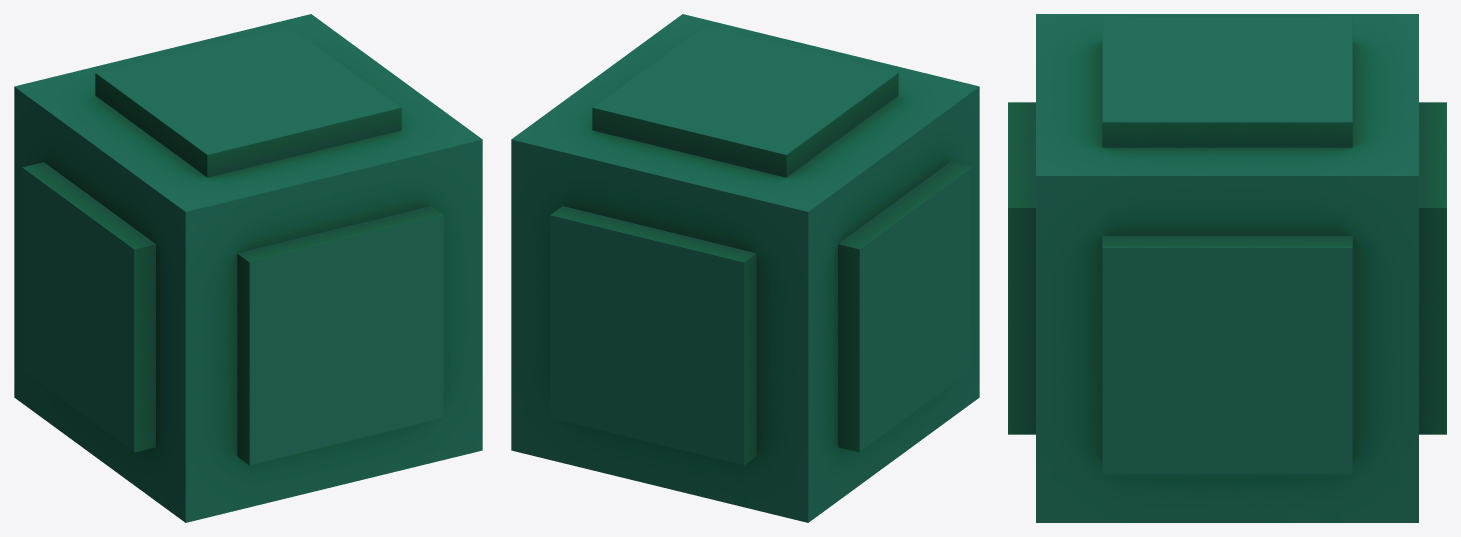
3 views of the same model, side by side, from view 1: azimuth 30°, elevation 25°; view 2: azimuth 150°, elevation 25°; view 3: azimuth 270°, elevation 25° (orthographic). The views are drawn at different scales.
Parts seen in each view (by area): view 1: cube10_geo; view 2: cube10_geo; view 3: cube10_geo.
Part boxes in pixels (box(x1,y1,x2,y2)): cube10_geo: box(14, 14, 482, 522); cube10_geo: box(511, 14, 979, 522); cube10_geo: box(1008, 14, 1446, 522).
Bounding box in the file's own units: 115 × 115 × 115.
1 material, 1 textured.
